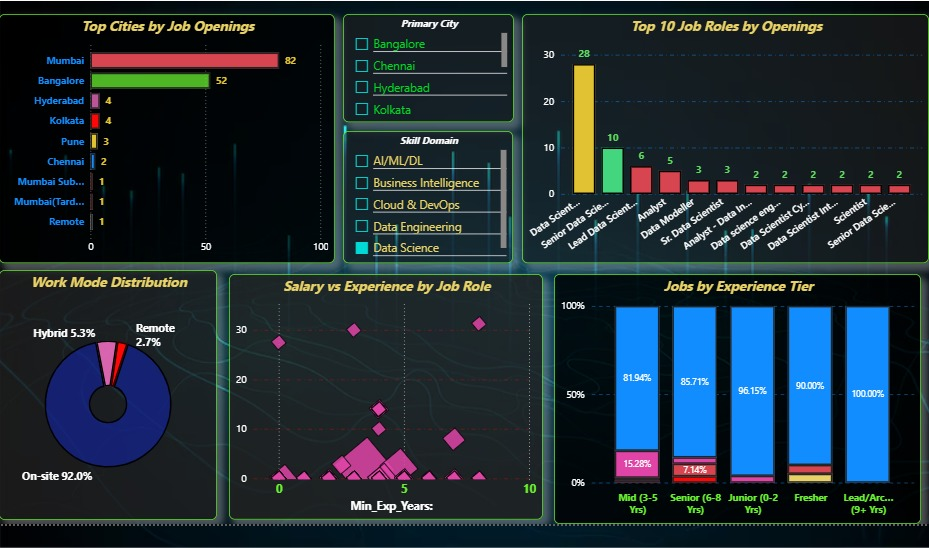

This screenshot's page, from the dashboard's own definition file:
{"tool":"powerbi","page":{"name":"Page 3","canvas":[1280,720],"ordinal":2},"visuals":[{"type":"clusteredColumnChart","title":"Top 10 Job Roles by Openings","fields":{"Y":["CountNonNull(indian_tech_jobs_2026.job_id)"],"Category":["indian_tech_jobs_2026.job_title"]},"box":[719.8,17.9,560.2,342.7],"z":0},{"type":"clusteredBarChart","title":"Top Cities by Job Openings","fields":{"Category":["indian_tech_jobs_2026.primary_city"],"Y":["CountNonNull(indian_tech_jobs_2026.job_id)"]},"box":[0,17.9,462.5,342.7],"z":1000},{"type":"donutChart","title":"Work Mode Distribution","fields":{"Category":["indian_tech_jobs_2026.work_mode"],"Y":["CountNonNull(indian_tech_jobs_2026.job_id)"]},"box":[0,370.5,300.2,344.2],"z":2000},{"type":"hundredPercentStackedColumnChart","title":"Jobs by Experience Tier","fields":{"Category":["indian_tech_jobs_2026.experience_tier"],"Y":["CountNonNull(indian_tech_jobs_2026.job_id)"],"Series":["indian_tech_jobs_2026.salary_tier"]},"box":[764.5,376.4,505.3,344.2],"z":3000},{"type":"scatterChart","title":"Salary vs Experience by Job Role","fields":{"Y":["Avg(indian_tech_jobs_2026.salary_midpoint_lpa)"],"X":["Avg(indian_tech_jobs_2026.experience_min_yrs)"],"Series":["indian_tech_jobs_2026.skill_domain"],"Size":["CountNonNull(indian_tech_jobs_2026.job_id)"],"Category":["indian_tech_jobs_2026.job_title"]},"box":[316.3,376.4,432,338.3],"z":4000},{"type":"slicer","title":"Primary City","fields":{"Values":["indian_tech_jobs_2026.primary_city"]},"box":[473.5,17.9,235.4,148.6],"z":5000},{"type":"slicer","title":"Skill Domain","fields":{"Values":["indian_tech_jobs_2026.skill_domain"]},"box":[473.5,178.9,234,181.7],"z":6000}]}

Visuals, with their boxes on the page's 1280x720 design canvas (x1, y1, x2, y2). These are canvas units, not pixel positions in the 929x548 screenshot, which may show the page scaled, cropped or inside an application window:
"Top 10 Job Roles by Openings" clusteredColumnChart: (720, 18, 1280, 361)
"Top Cities by Job Openings" clusteredBarChart: (0, 18, 462, 361)
"Work Mode Distribution" donutChart: (0, 370, 300, 715)
"Jobs by Experience Tier" hundredPercentStackedColumnChart: (764, 376, 1270, 721)
"Salary vs Experience by Job Role" scatterChart: (316, 376, 748, 715)
"Primary City" slicer: (474, 18, 709, 166)
"Skill Domain" slicer: (474, 179, 708, 361)
